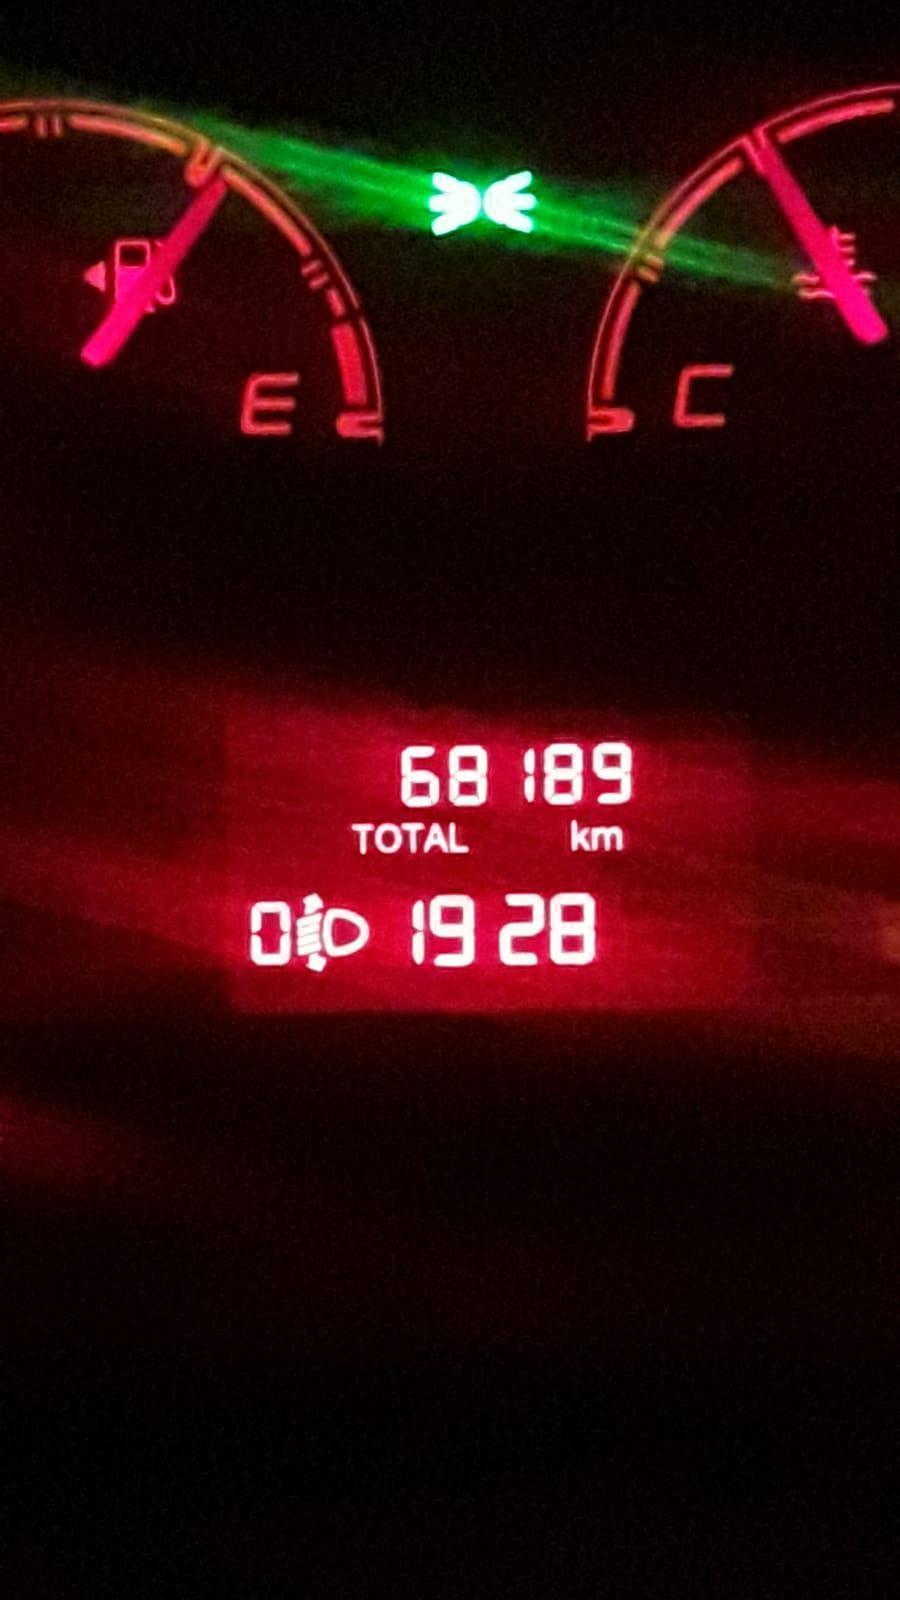0: (247, 897, 295, 970)
1: (405, 895, 426, 968), (520, 741, 538, 808)
2: (498, 890, 545, 968)
6: (397, 743, 441, 810)
8: (548, 889, 600, 968), (447, 740, 491, 810), (543, 738, 585, 805)
9: (427, 891, 479, 970), (591, 737, 636, 805)
X: (446, 820, 474, 854), (591, 823, 624, 851), (374, 821, 401, 853), (569, 816, 591, 853), (349, 821, 373, 854), (426, 821, 448, 855), (401, 821, 423, 853)
odometer: (195, 700, 791, 1040)
